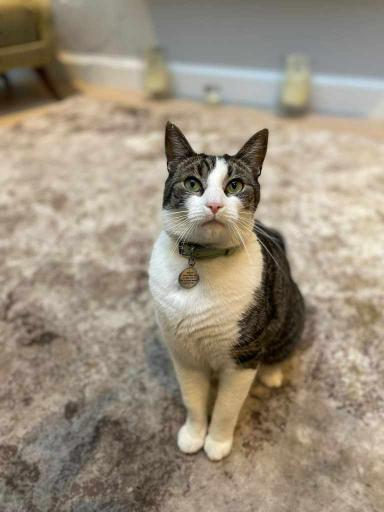cat_sitting: (149, 122, 303, 460)
